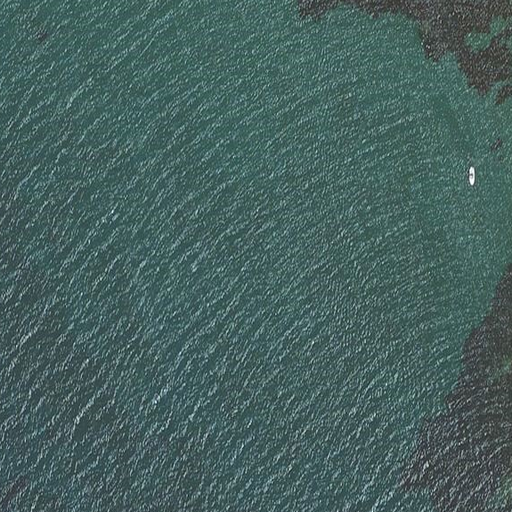ship: (467, 166, 475, 184)
